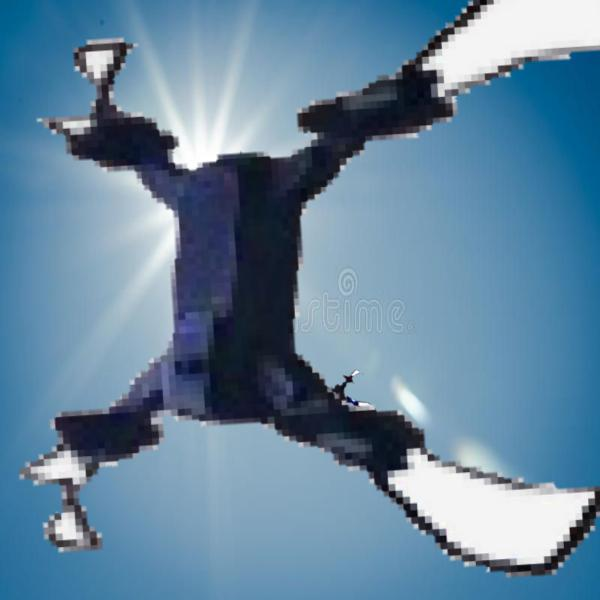drone: (316, 372, 383, 439)
